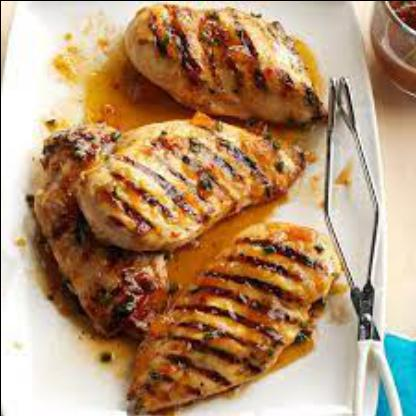grilled chicken breast: (127, 220, 335, 414), (74, 118, 306, 252), (34, 121, 170, 335), (123, 1, 329, 121)
